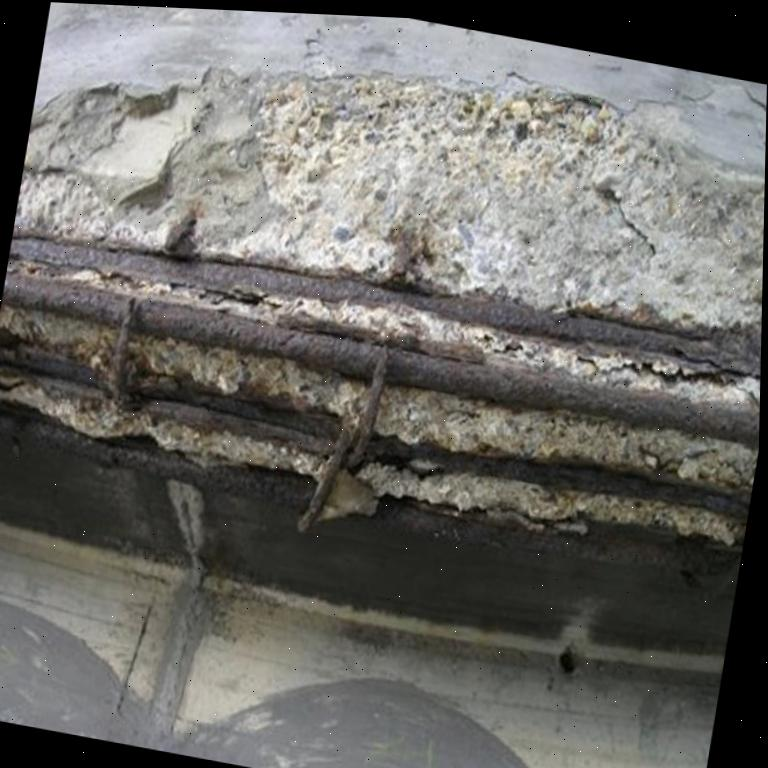exposed_rebar: (1, 271, 760, 449), (9, 237, 761, 384), (366, 435, 751, 523), (298, 348, 386, 532), (123, 382, 342, 454), (0, 353, 106, 397)
spalling: (0, 67, 765, 545)
